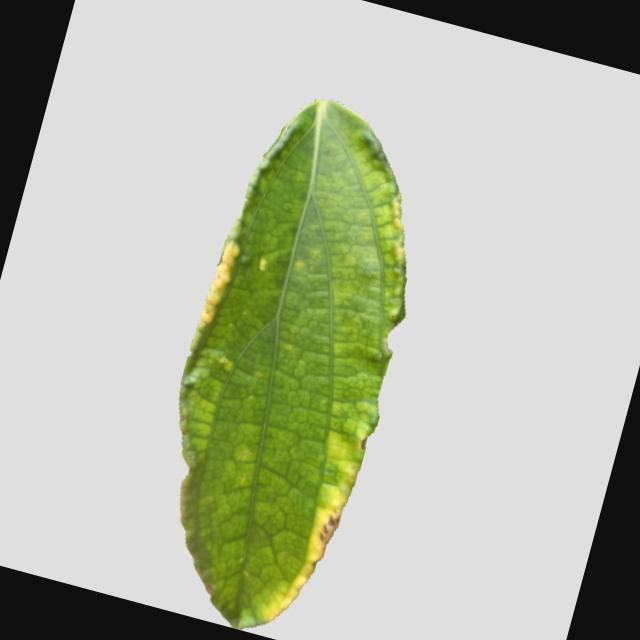yellow-mottle-virus: (113, 79, 484, 640)
